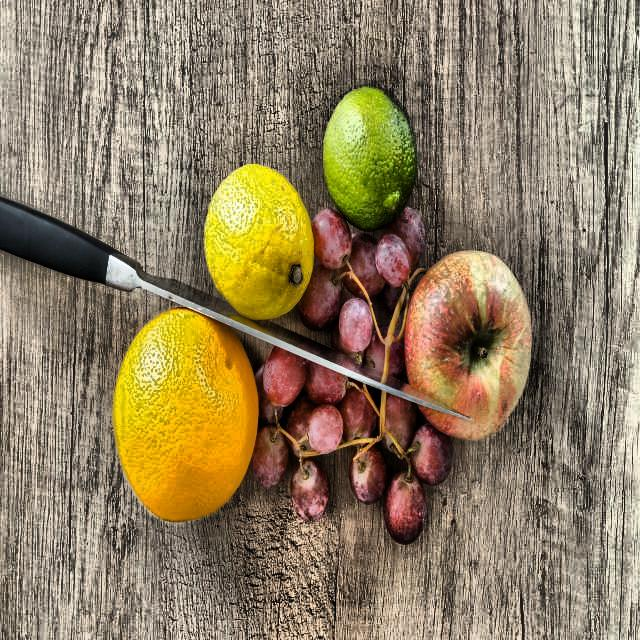knife: (0, 186, 468, 441)
